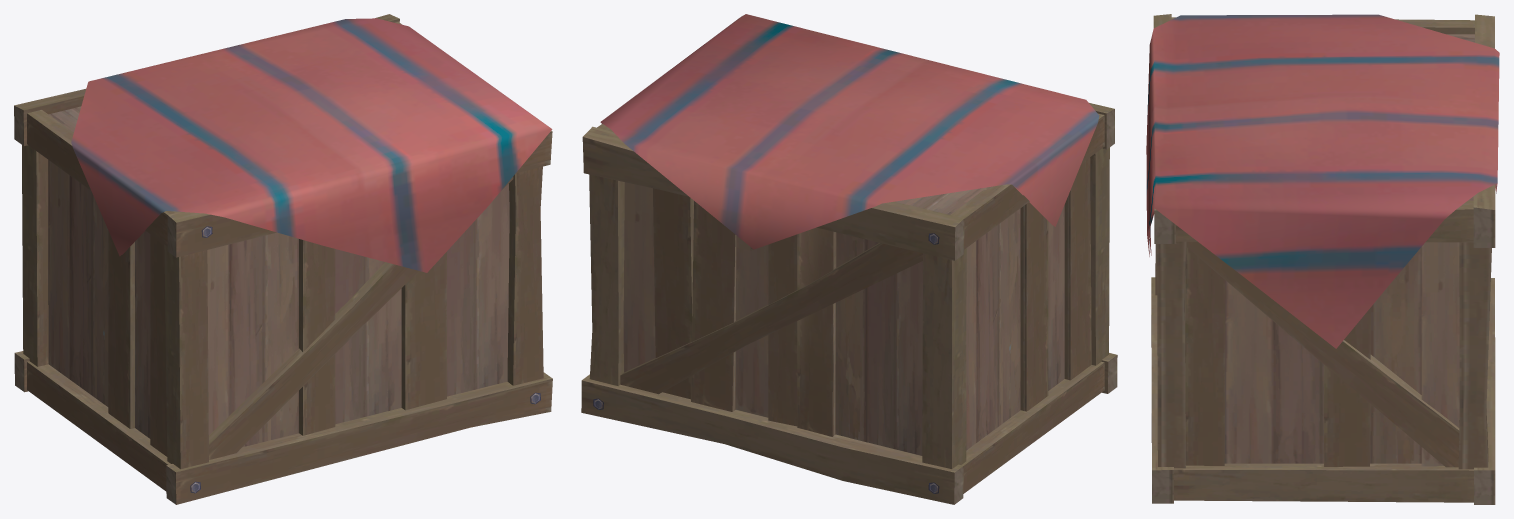
The model's file is Homeworld_Exterior_Common_Thing_Woodenbox_01_Lod0.fbx.
3 views of the same model, side by side, from view 1: azimuth 30°, elevation 25°; view 2: azimuth 150°, elevation 25°; view 3: azimuth 270°, elevation 25° (orthographic). The views are drawn at different scales.
Visible parts, largest first — view 1: Area_MdProps_Woodbox04_Lod0; view 2: Area_MdProps_Woodbox04_Lod0; view 3: Area_MdProps_Woodbox04_Lod0.
Boxes of the visible parts, x1=… form: Area_MdProps_Woodbox04_Lod0: x1=14, y1=14, x2=552, y2=504; Area_MdProps_Woodbox04_Lod0: x1=581, y1=14, x2=1117, y2=504; Area_MdProps_Woodbox04_Lod0: x1=1146, y1=14, x2=1499, y2=504.
Size of the model in its own units: 1.72 by 1.28 by 1.3.
